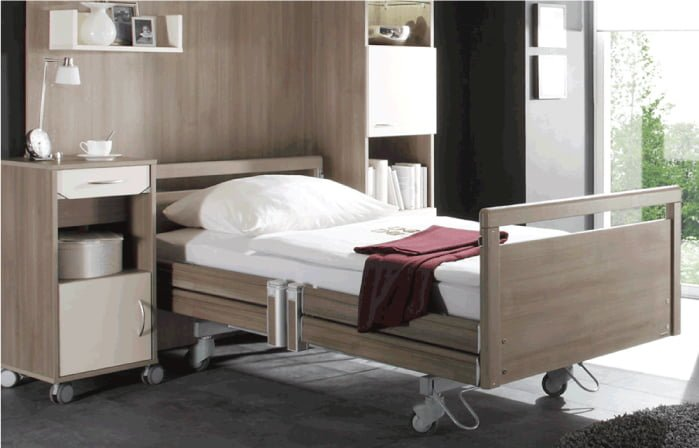trolley_bed: (140, 172, 693, 433)
